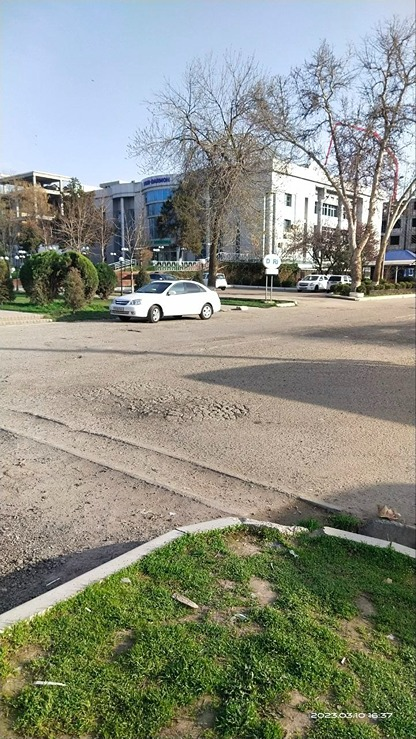car: (113, 274, 223, 325), (327, 269, 356, 295), (297, 269, 324, 291)
tree: (266, 0, 416, 280), (145, 56, 270, 270)
